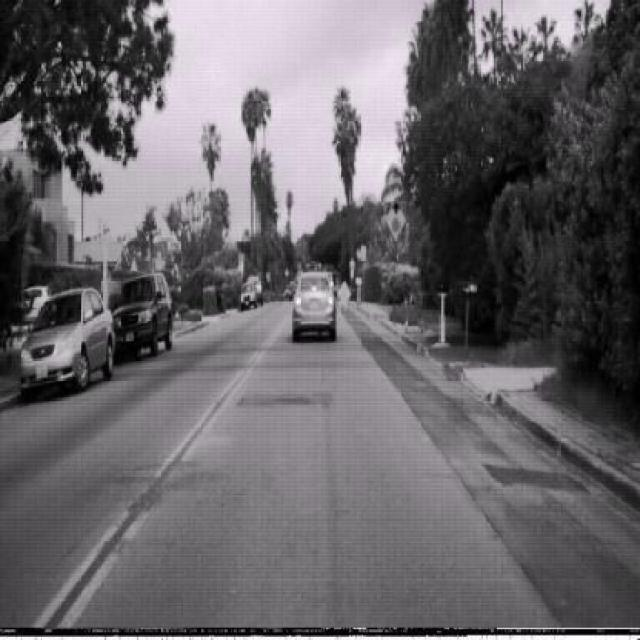stopAhead: (384, 195, 408, 242)
